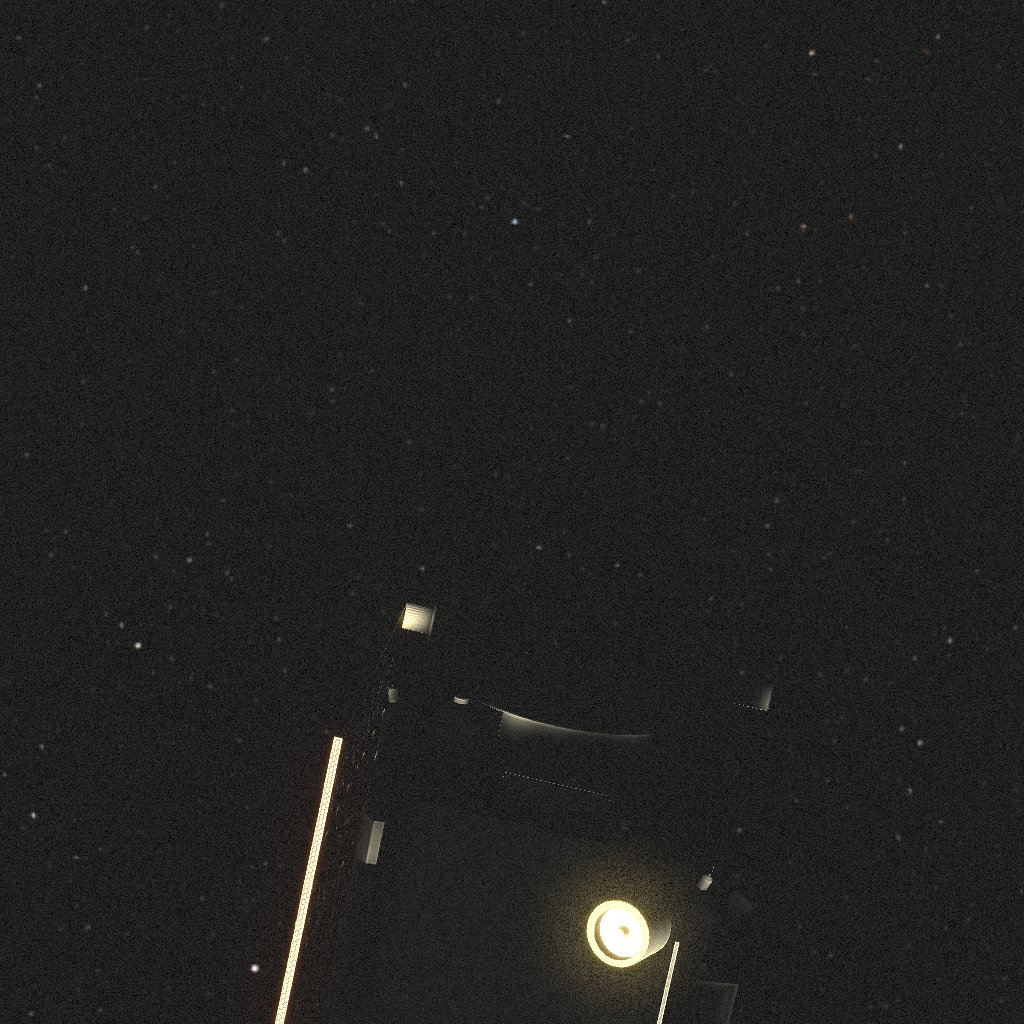proba_3_csc: (275, 596, 774, 1024)
